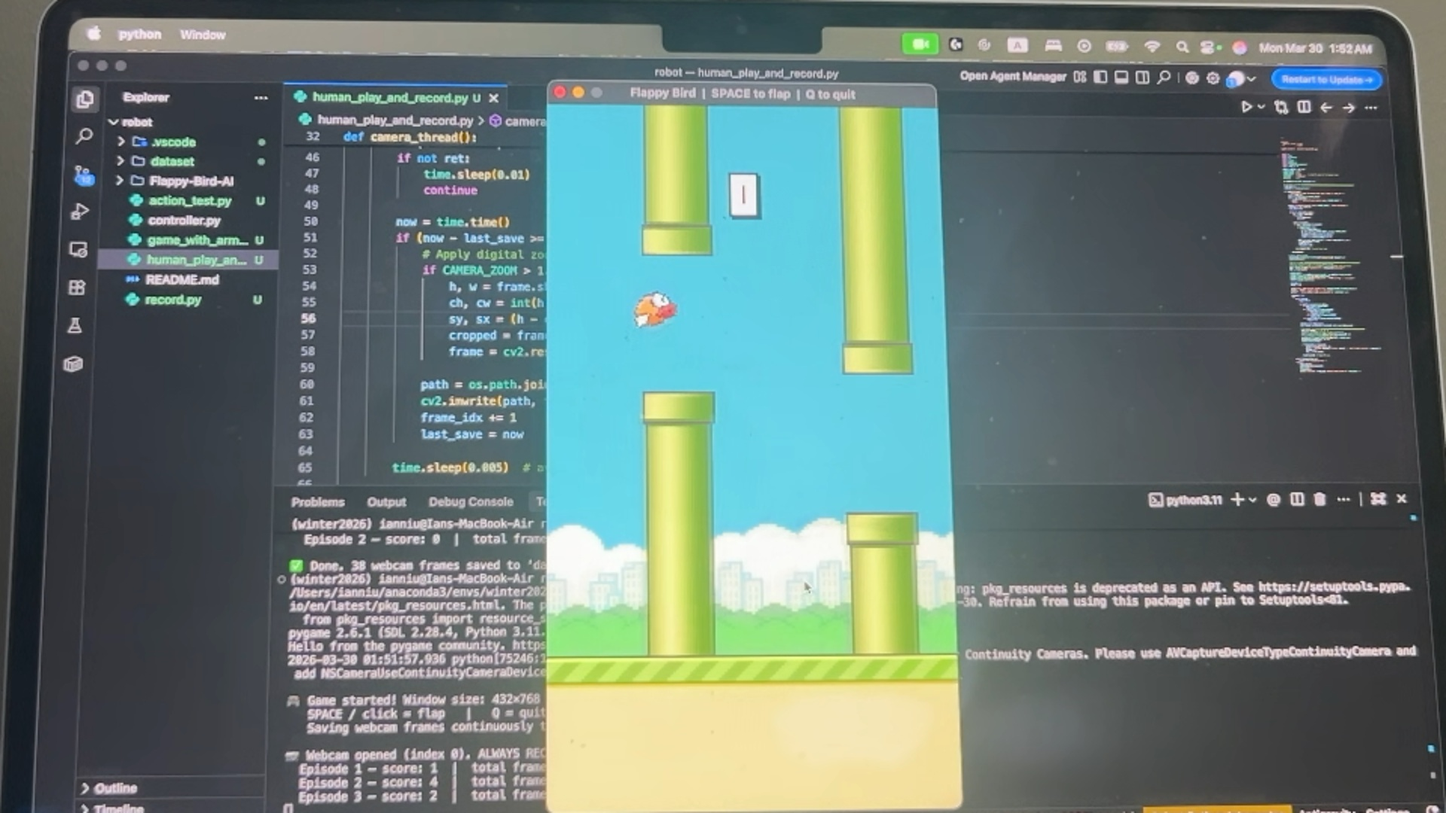bird: (628, 286, 683, 336)
green pipes: (841, 108, 913, 374), (643, 394, 715, 657), (642, 105, 713, 255), (850, 512, 920, 656)
